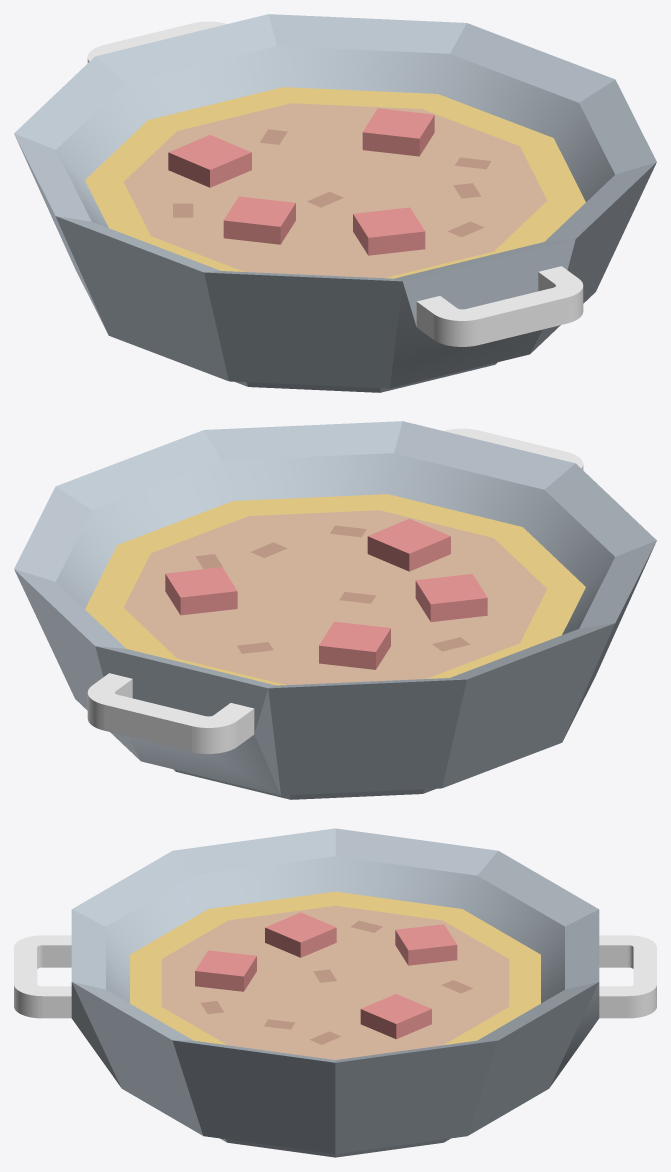
File: asset.glb
3 views of the same model, one above another, from view 1: azimuth 30°, elevation 25°; view 2: azimuth 150°, elevation 25°; view 3: azimuth 270°, elevation 25° (orthographic). The views are drawn at different scales.
Visible parts, largest first — view 1: panStew; view 2: panStew; view 3: panStew.
Boxes of the visible parts, x1,y1,x2,y2 form: panStew: [14, 14, 656, 392]; panStew: [14, 421, 656, 799]; panStew: [14, 828, 656, 1157].
Size of the model in its own units: 0.6575 by 0.1753 by 0.7621.
